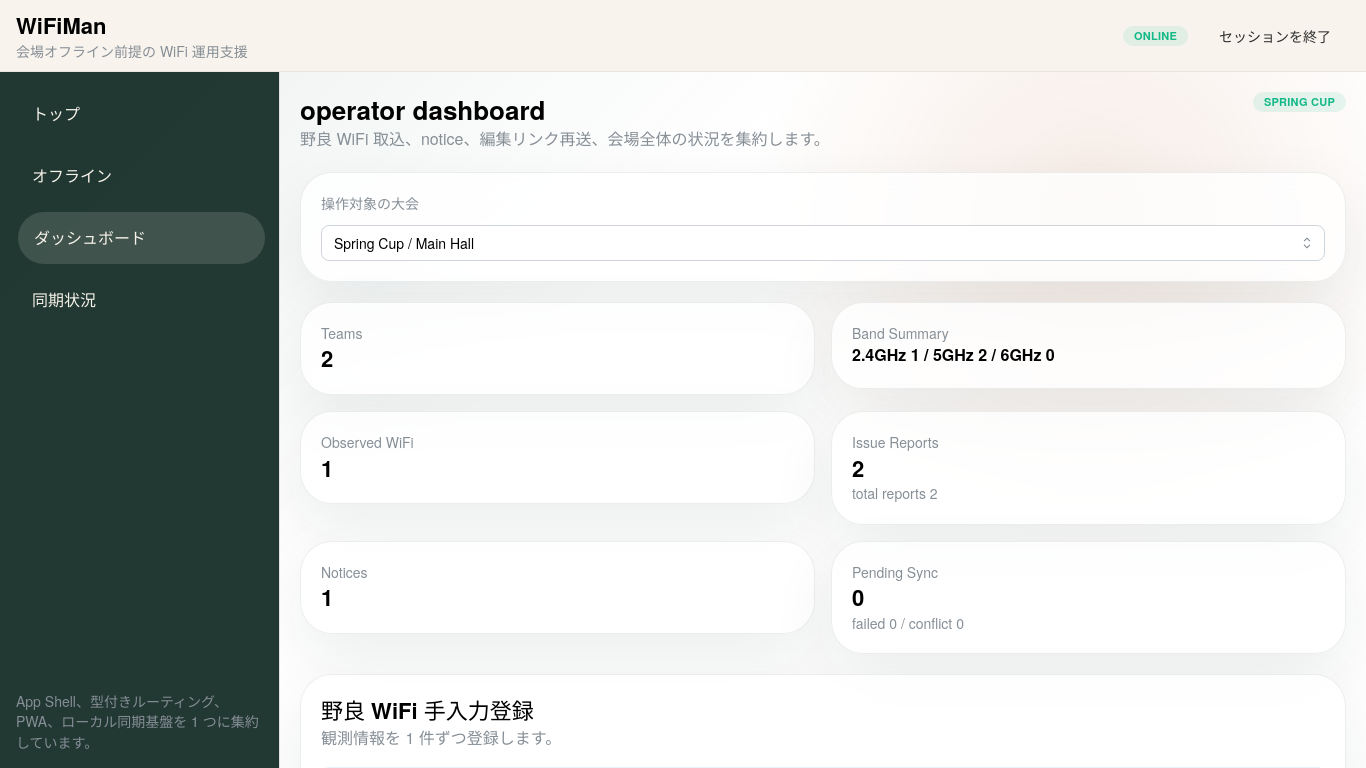
Test: team management routes › operator dashboard で大会切替時に集計と team access 対象を切り替える
Expected: the heading "operator dashboard" is shown, left=300, top=91, right=546, bottom=128
Expected: the text "2.4GHz 1 / 5GHz 2 / 6GHz 0" is shown, left=852, top=344, right=1055, bottom=366
Select "Autumn Cup / Sub Hall" in the dropdown named "大会選択": (823, 243) left=321, top=225, right=1325, bottom=261
(page scrolled)
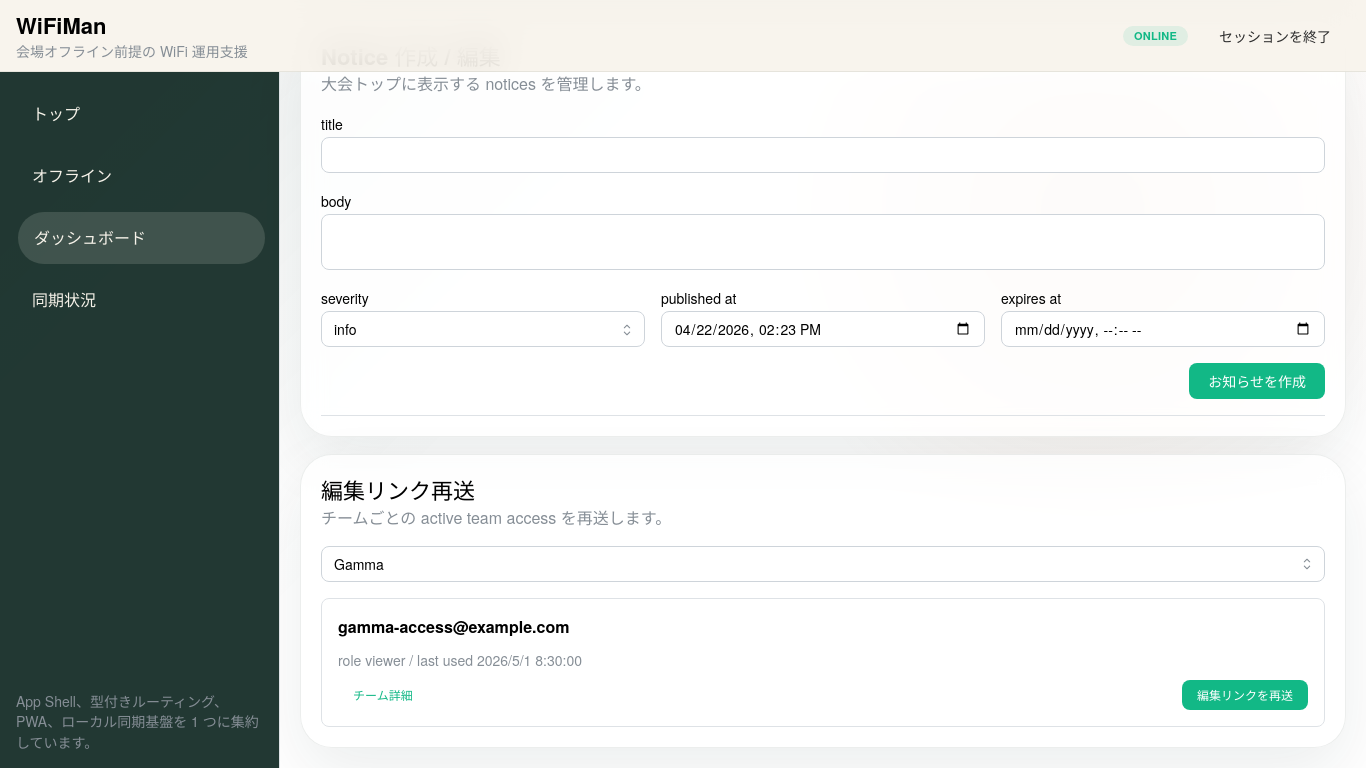
Result: the dropdown named "チーム選択" shows "Gamma" at left=321, top=546, right=1325, bottom=582
Result: the text "gamma-access@example.com" is shown at left=338, top=615, right=569, bottom=638
